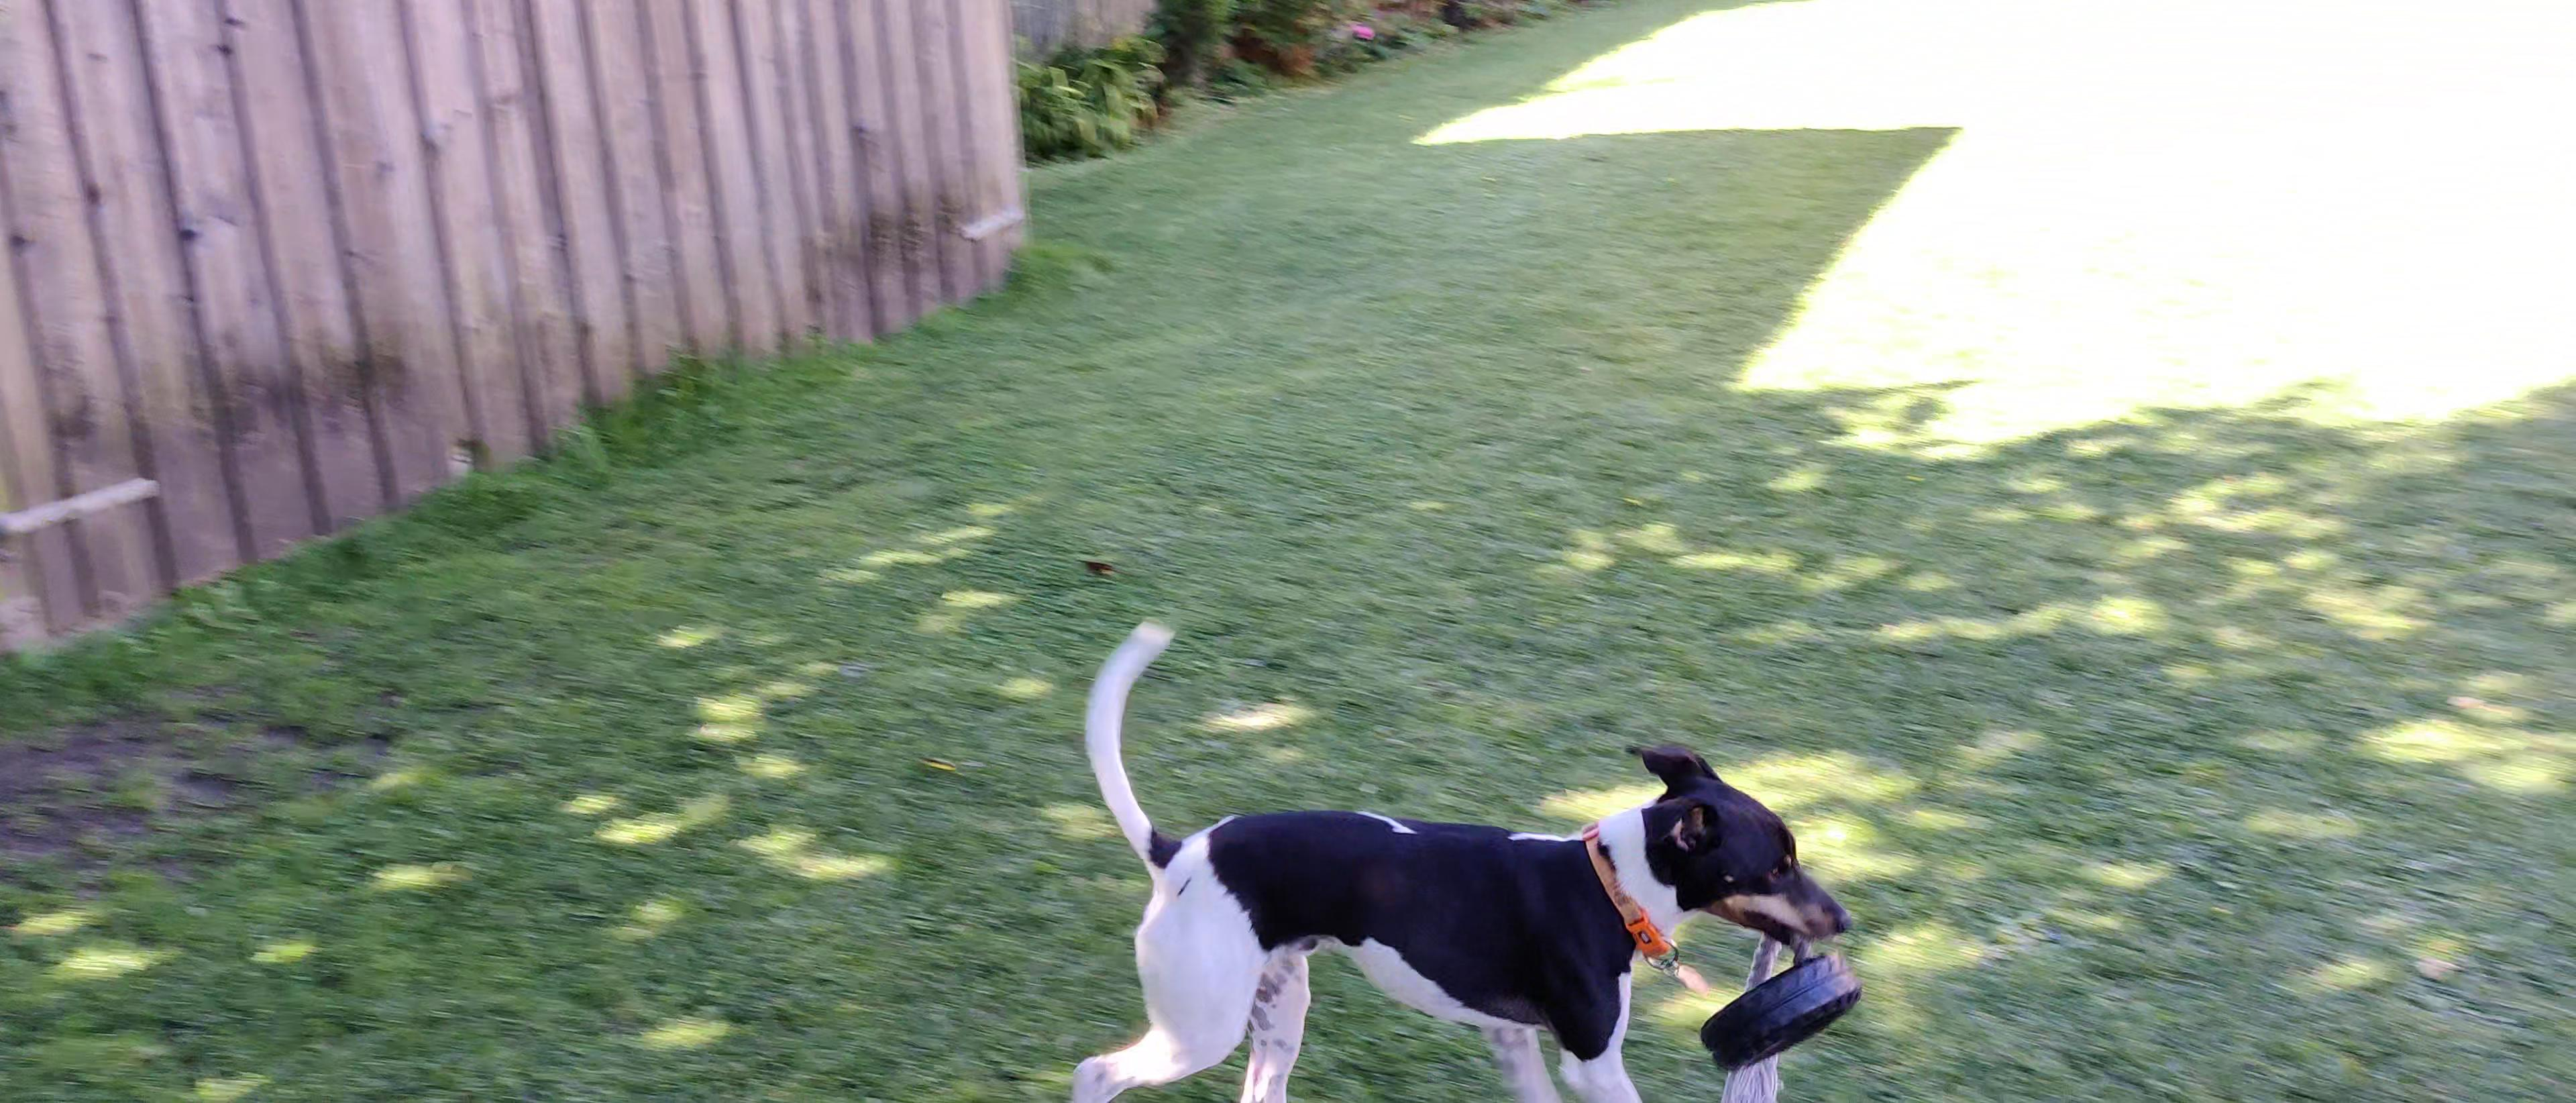Dog: (1053, 610, 1861, 1103)
